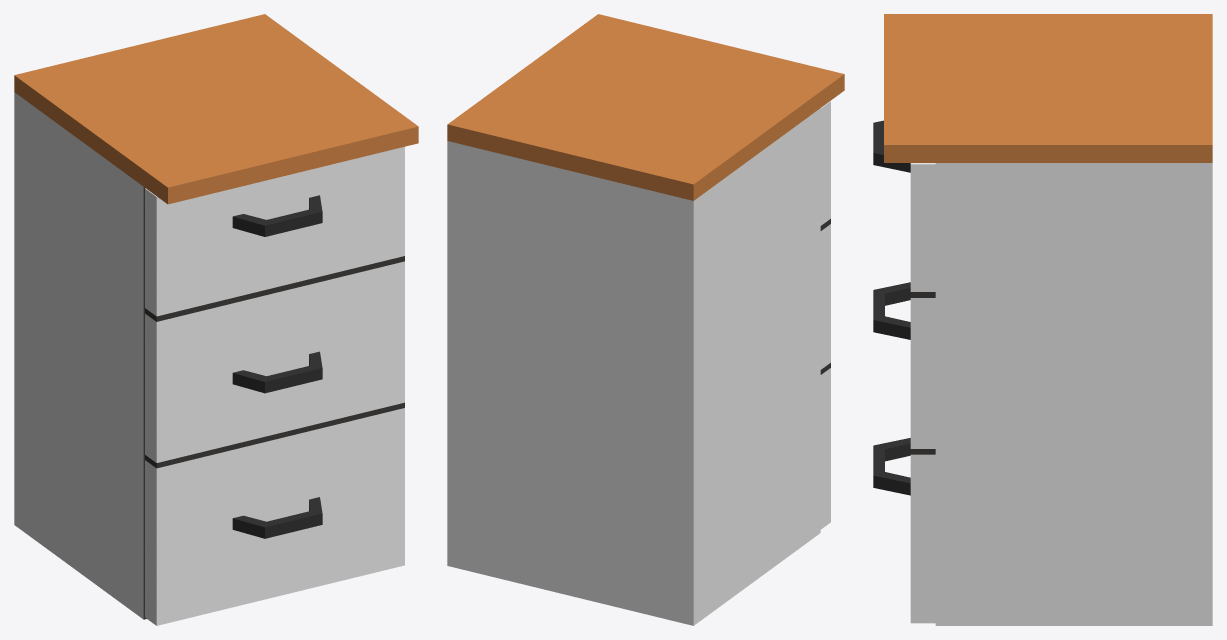
The model's file is Kitchen_Cabinet_2A.fbx.
3 views of the same model, side by side, from view 1: azimuth 30°, elevation 25°; view 2: azimuth 150°, elevation 25°; view 3: azimuth 270°, elevation 25° (orthographic). The views are drawn at different scales.
Parts seen in each view (by area): view 1: polySurface1566; view 2: polySurface1566; view 3: polySurface1566.
Part boxes in pixels (bbox=[...]): polySurface1566: bbox=[14, 14, 418, 625]; polySurface1566: bbox=[447, 14, 844, 625]; polySurface1566: bbox=[873, 14, 1212, 625].
Size of the model in its own units: 0.7792 by 1.34 by 0.8541.
Materials: 1 (1 with a texture image).
